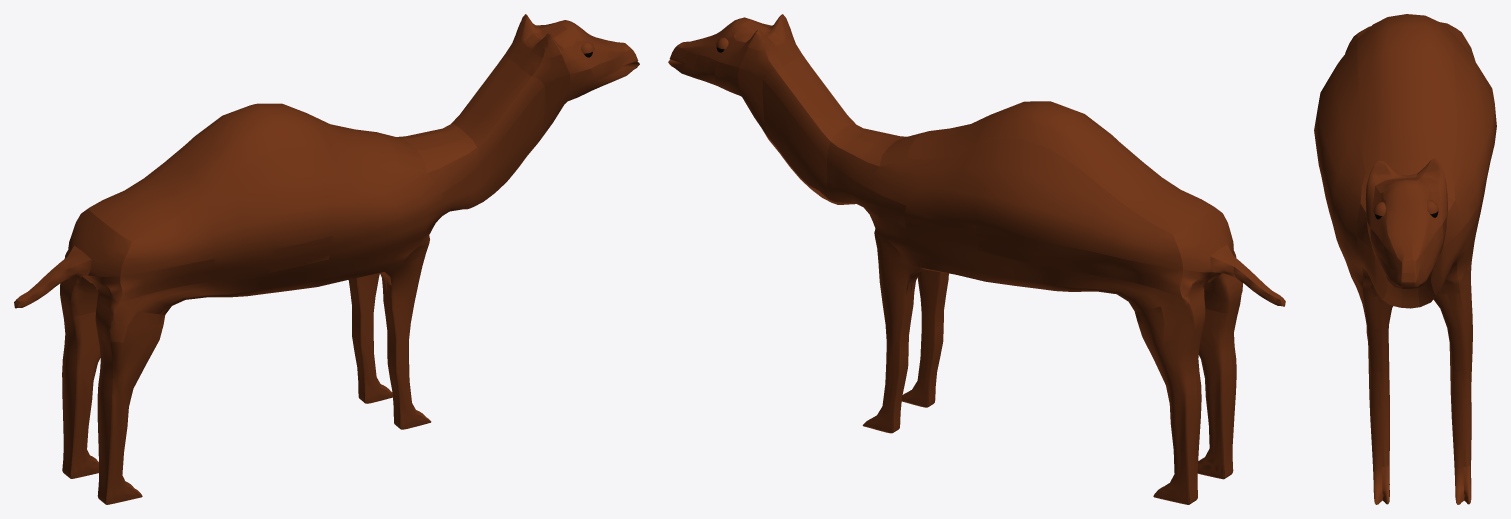
File: Camel_9.obj
3 views of the same model, side by side, from view 1: azimuth 30°, elevation 25°; view 2: azimuth 150°, elevation 25°; view 3: azimuth 270°, elevation 25° (orthographic). The views are drawn at different scales.
Parts seen in each view (by area): view 1: Box006; view 2: Box006; view 3: Box006.
Part boxes in pixels (x1,y1,x2,y2): Box006: (14, 14, 639, 504); Box006: (668, 14, 1285, 504); Box006: (1314, 14, 1496, 504).
Bounding box in the file's own units: 112 × 62.42 × 24.84.
